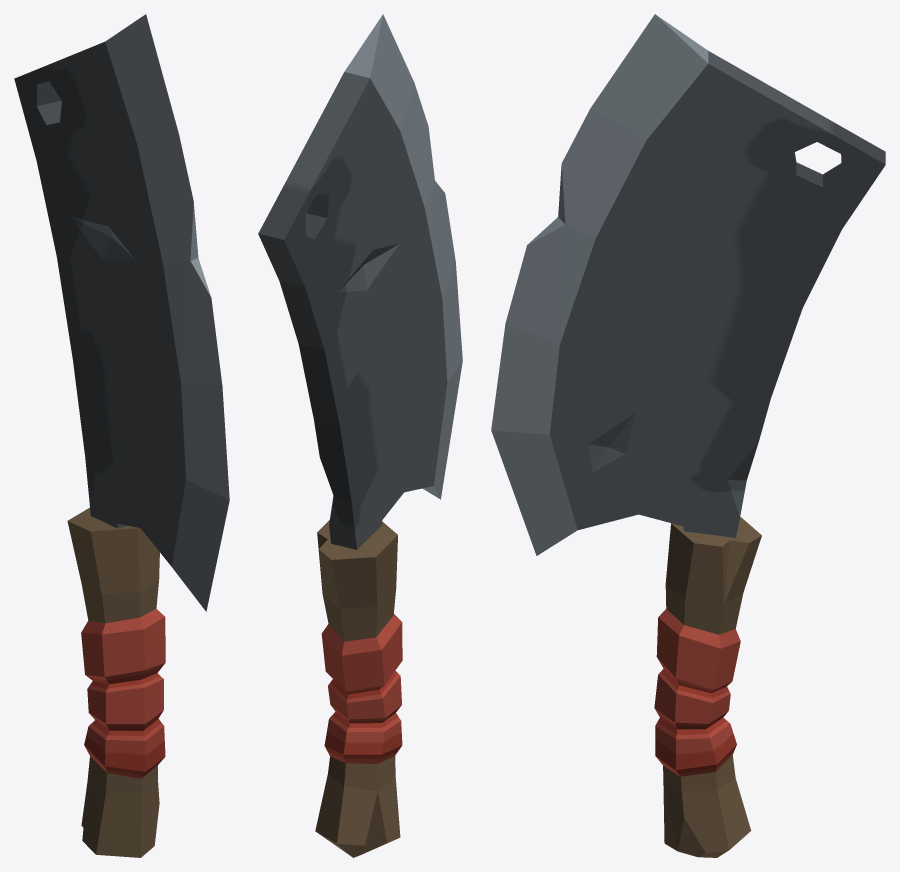
Rendered from SM_Prop_Cleaver_01.fbx.
3 views of the same model, side by side, from view 1: azimuth 30°, elevation 25°; view 2: azimuth 150°, elevation 25°; view 3: azimuth 270°, elevation 25° (orthographic). The views are drawn at different scales.
Parts seen in each view (by area): view 1: SM_Prop_Cleaver_01; view 2: SM_Prop_Cleaver_01; view 3: SM_Prop_Cleaver_01.
Part boxes in pixels (x1,y1,x2,y2): SM_Prop_Cleaver_01: [14, 14, 229, 857]; SM_Prop_Cleaver_01: [258, 14, 462, 857]; SM_Prop_Cleaver_01: [491, 14, 885, 857].
Size of the model in its own units: 5.95 by 69.5 by 29.45.
